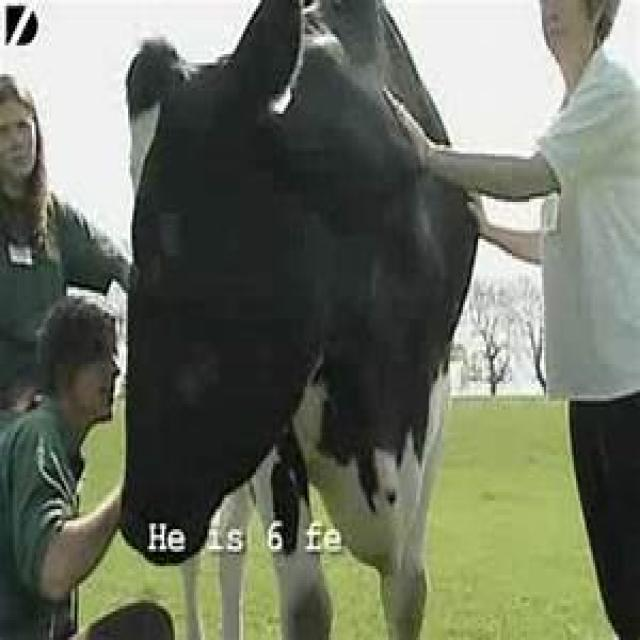cow: (122, 0, 478, 638)
